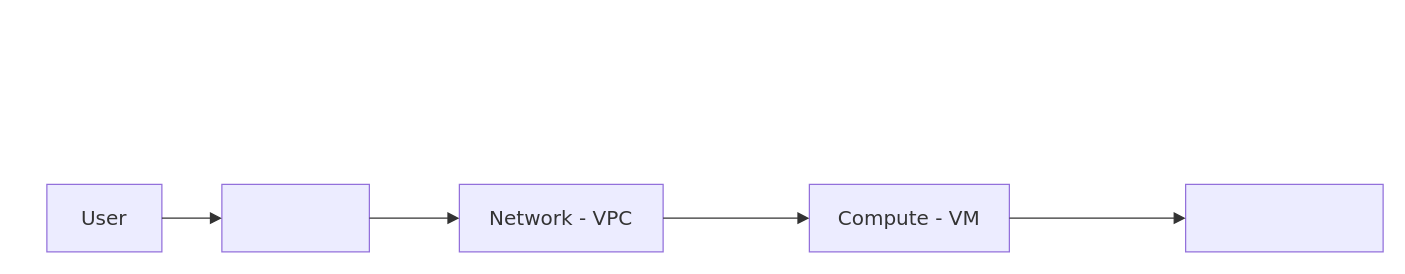
The diagram is 1405 pixels wide and 274 high, and some of its shapes have lost their labels. Each missing label, with the box of its shape:
Internet: (221, 183, 369, 252)
Storage - Disk: (1184, 183, 1383, 252)
